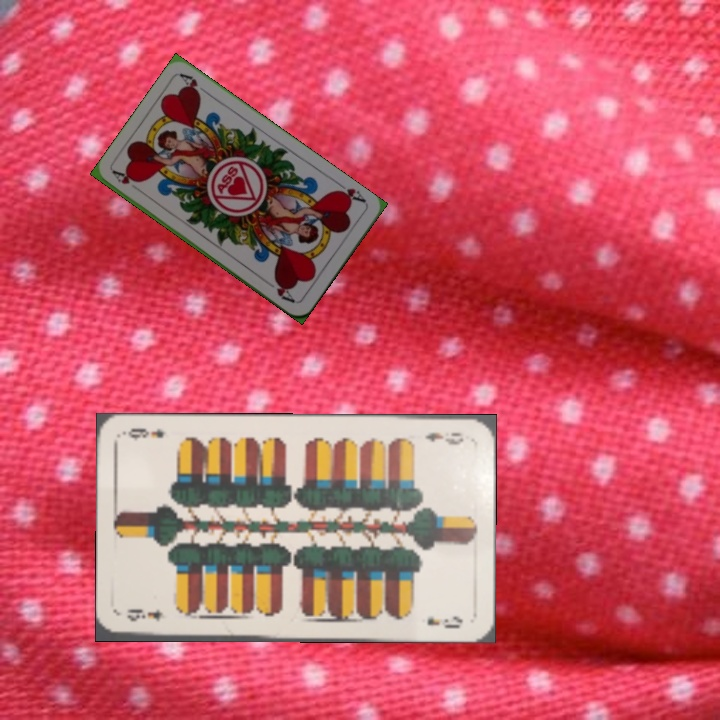E9: (421, 428, 466, 447), (123, 606, 165, 624)
HA: (330, 178, 369, 206), (109, 166, 140, 187)
